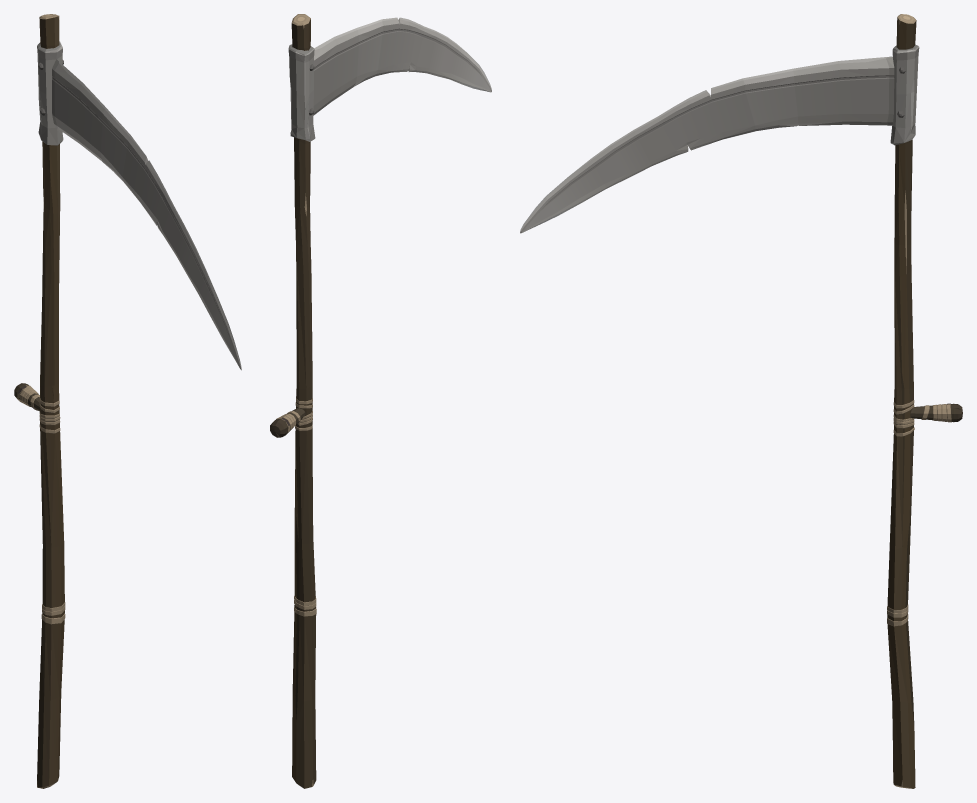
The model's file is bladedHeavyScythe.glb.
3 renders of one model, left to right at view 1: azimuth 30°, elevation 25°; view 2: azimuth 150°, elevation 25°; view 3: azimuth 270°, elevation 25°, orthographic.
Parts seen in each view (by area): view 1: bladedHeavyScythe; view 2: bladedHeavyScythe; view 3: bladedHeavyScythe.
Boxes of the visible parts, x1,y1,x2,y2 form: bladedHeavyScythe: (14,14,241,788); bladedHeavyScythe: (270,14,491,788); bladedHeavyScythe: (520,14,962,788).
Size of the model in its own units: 0.0459 by 1.38 by 0.7128.
